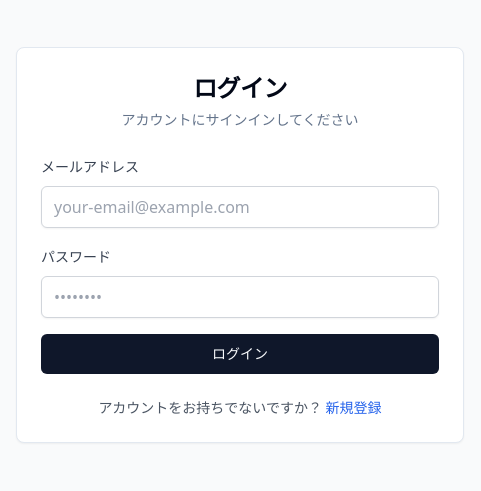
Test: LoginPage › エラーメッセージがクリアされる
// 最初のログイン試行（エラー）
Type "test@example.com" into the field labelled "メールアドレス" at (240, 207), box [41,186,439,228]
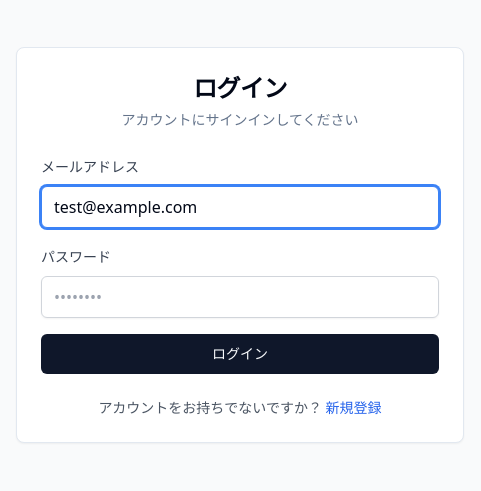
Type "wrongpassword" into the password field labelled "パスワード" at (240, 297), box [41,276,439,318]
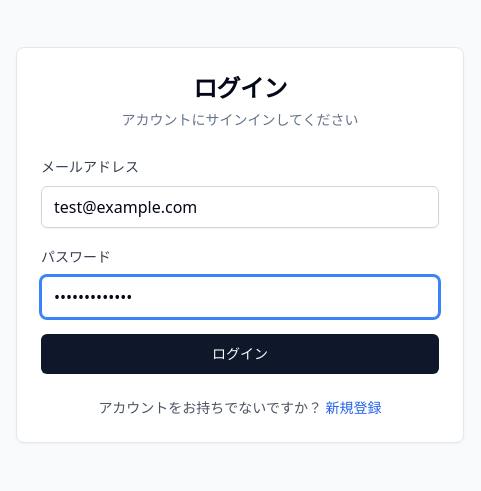
Click the button "ログイン" at (240, 354), box [41,334,439,374]
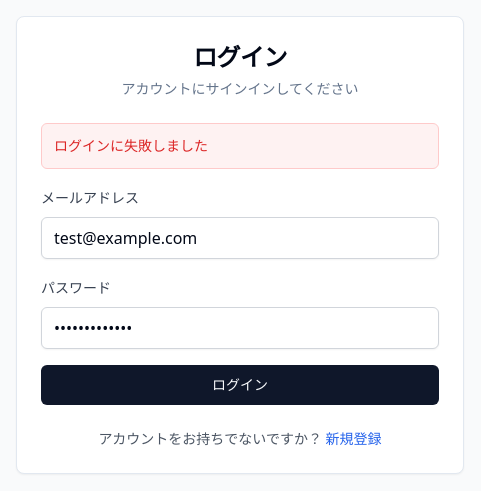
Expected: the text "ログインに失敗しました" is shown, [41,123,439,169]
// 2回目のログイン試行（成功）
Type "correctpassword" into the password field labelled "パスワード" at (240, 328), box [41,307,439,349]
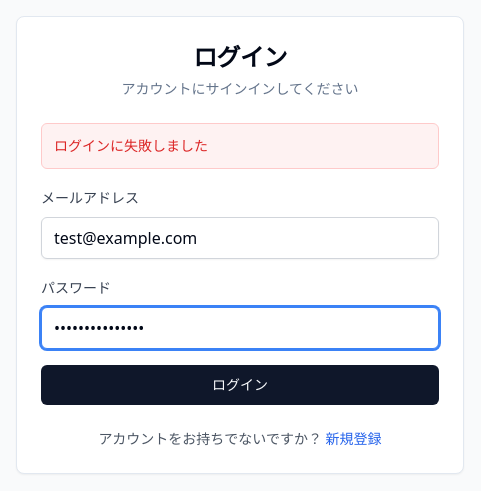
Click the button "ログイン" at (240, 385), box [41,365,439,405]
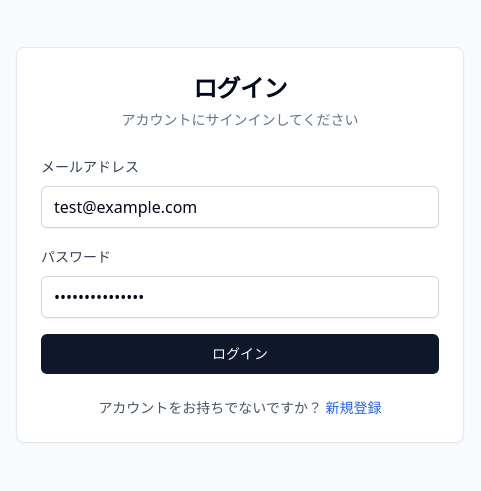
Expected: the text "ログインに失敗しました" is gone
